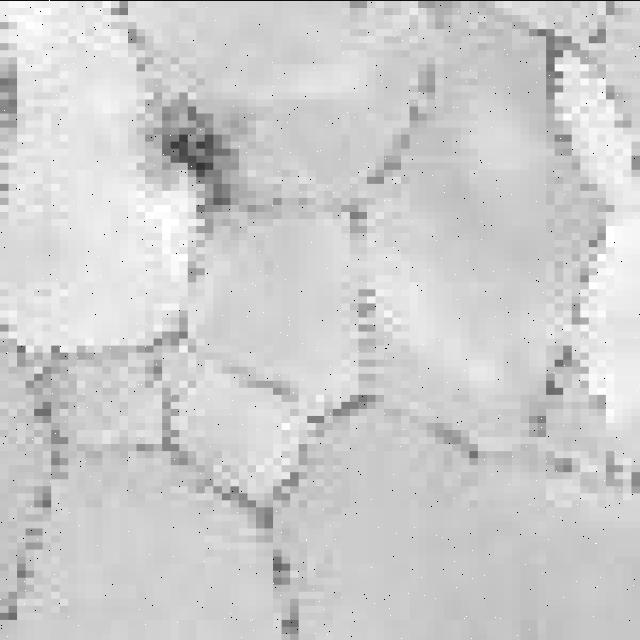good_void: (139, 99, 257, 211)
